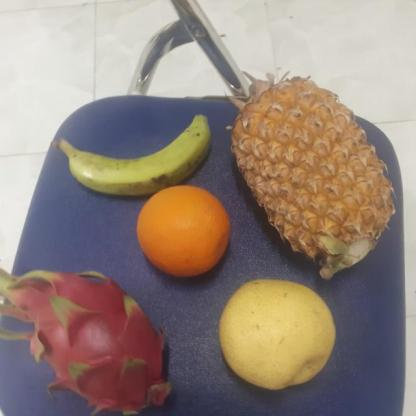banana: (64, 102, 220, 198)
orange: (136, 183, 236, 279)
pear: (217, 272, 340, 390)
pineapple: (233, 88, 397, 274)
pitaya: (19, 272, 180, 415)
